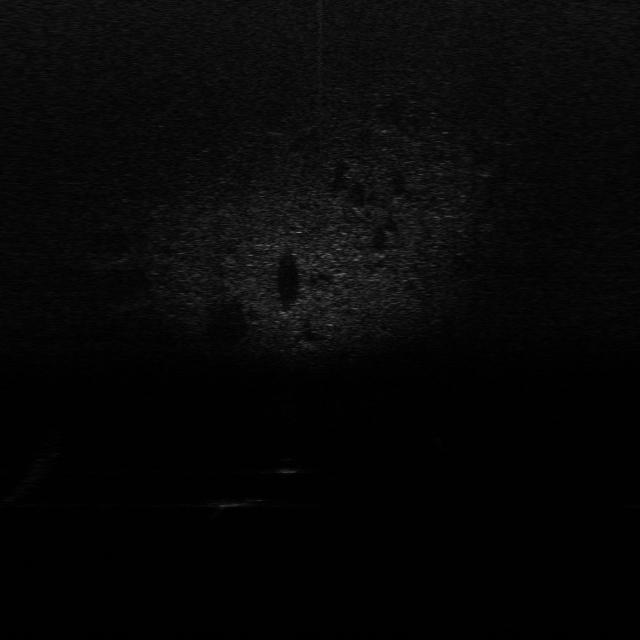ball: (274, 456, 302, 476)
square cage: (207, 486, 269, 512)
